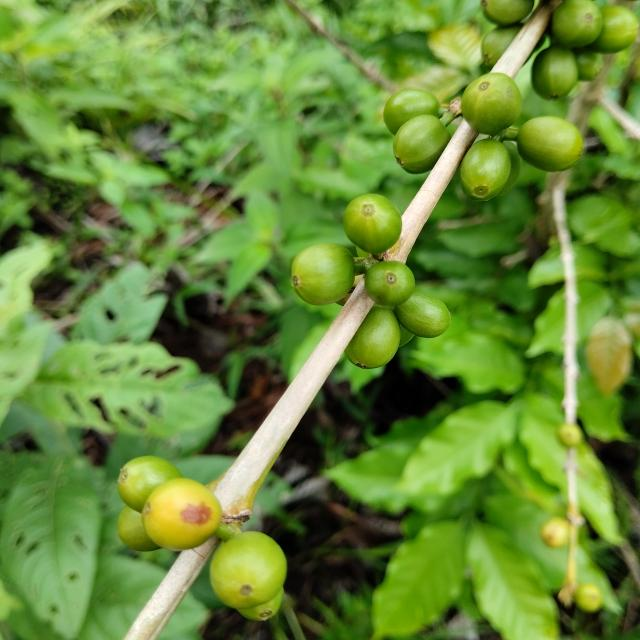green: (210, 532, 287, 610), (292, 243, 355, 305), (462, 72, 523, 135), (517, 115, 585, 171), (117, 456, 182, 513), (343, 193, 402, 254), (345, 305, 401, 369), (394, 114, 451, 173), (460, 138, 512, 200), (384, 88, 441, 134), (532, 44, 579, 99), (395, 292, 451, 338), (365, 261, 415, 307), (117, 507, 160, 552), (237, 589, 284, 622)
red: (141, 479, 221, 551)
